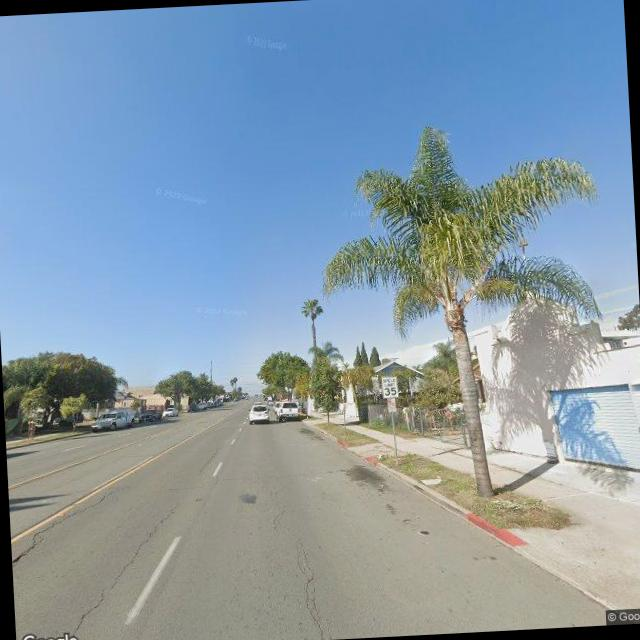crack: (52, 502, 183, 640), (9, 486, 124, 566), (284, 523, 328, 640)
